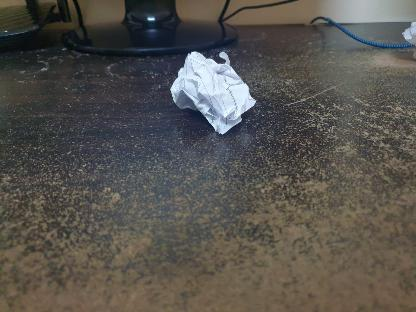Paper: (171, 48, 256, 131)
